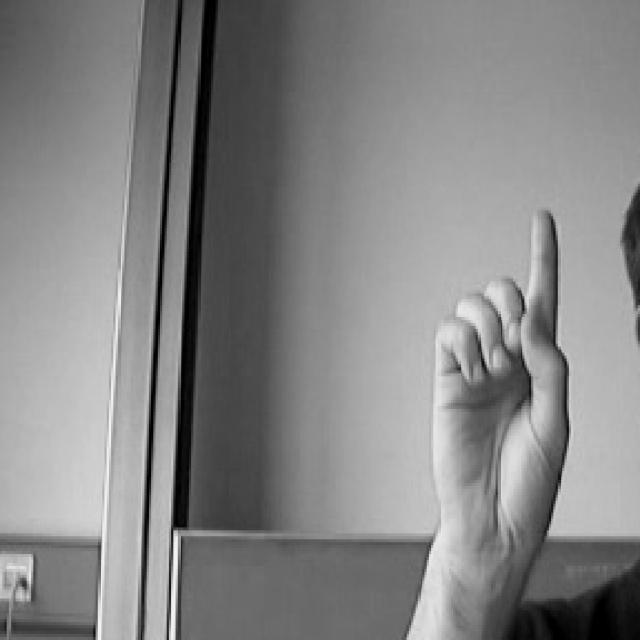D: (418, 190, 592, 568)
